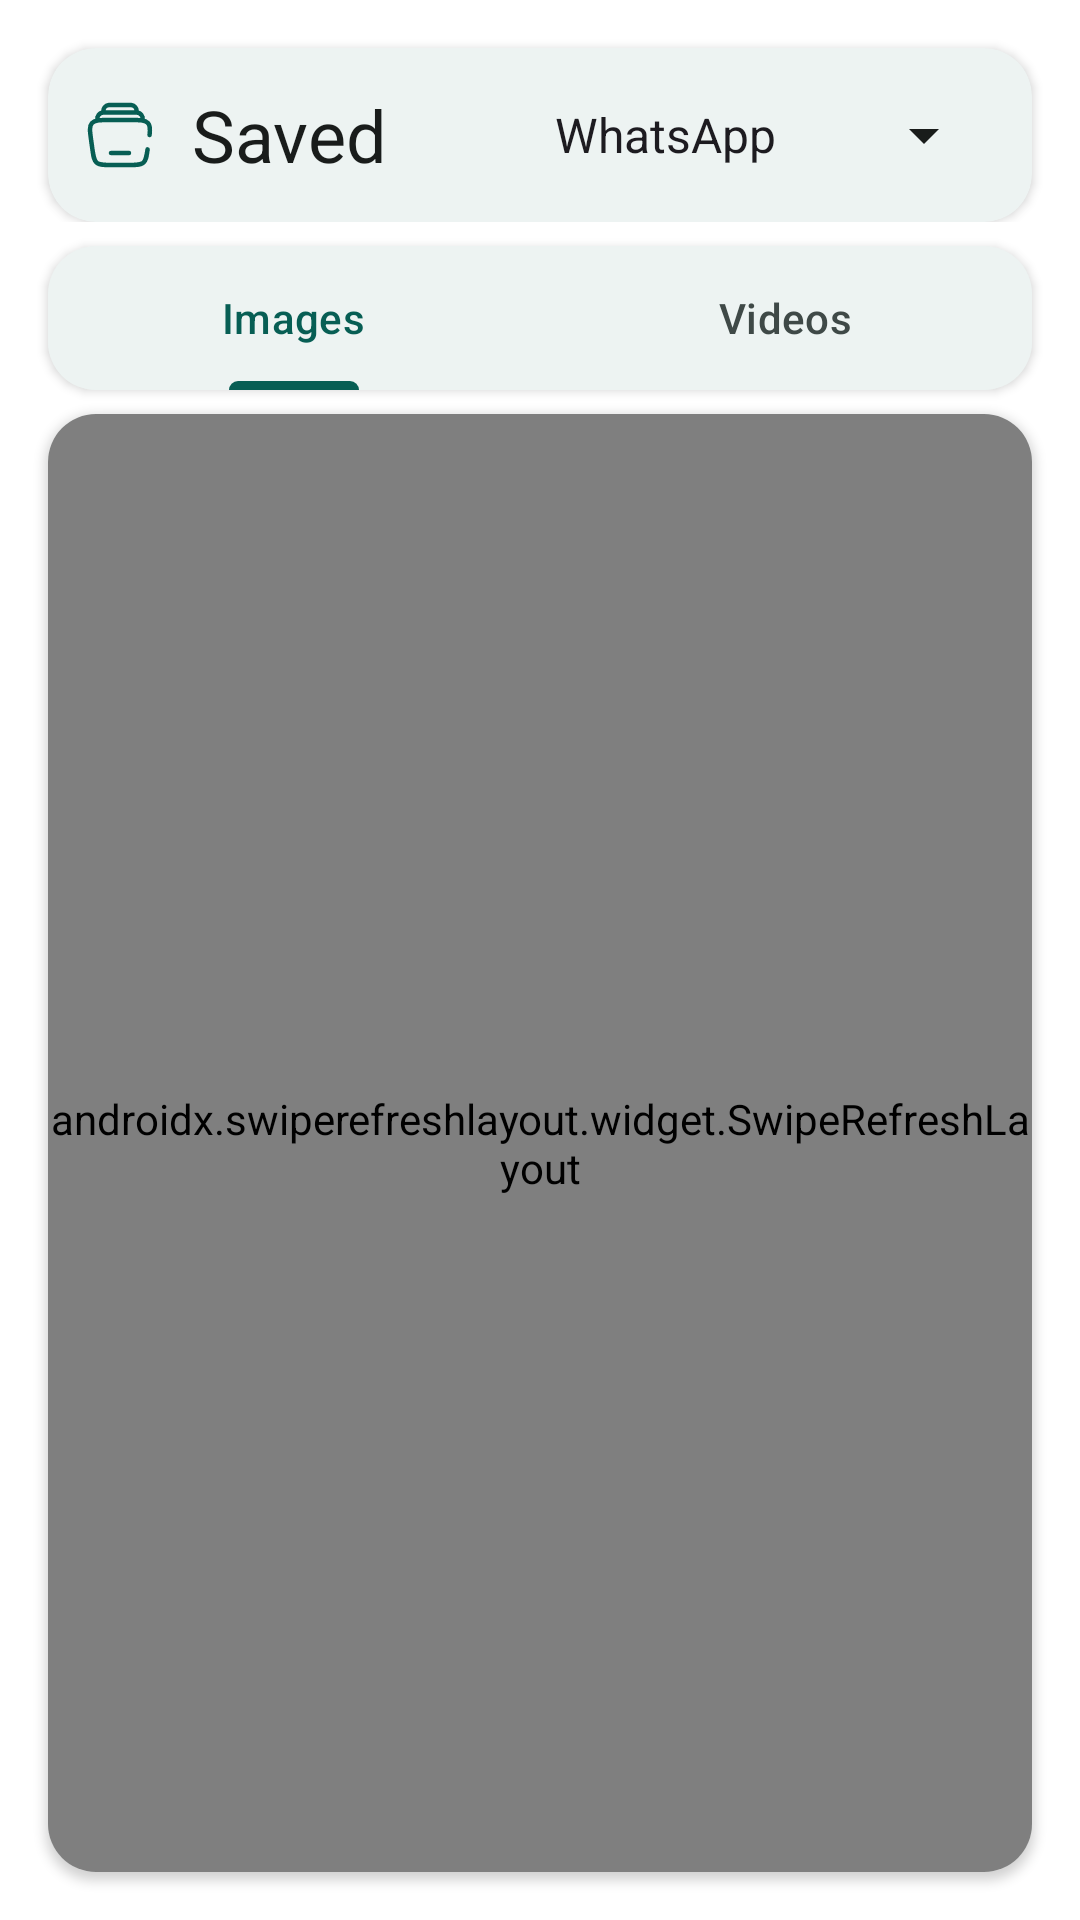

Named icons in this screenshot (1080x1920) and their bounding boxes, bbox=[x1, y1, x2, y2]:
library: bbox=[87, 102, 152, 168]
